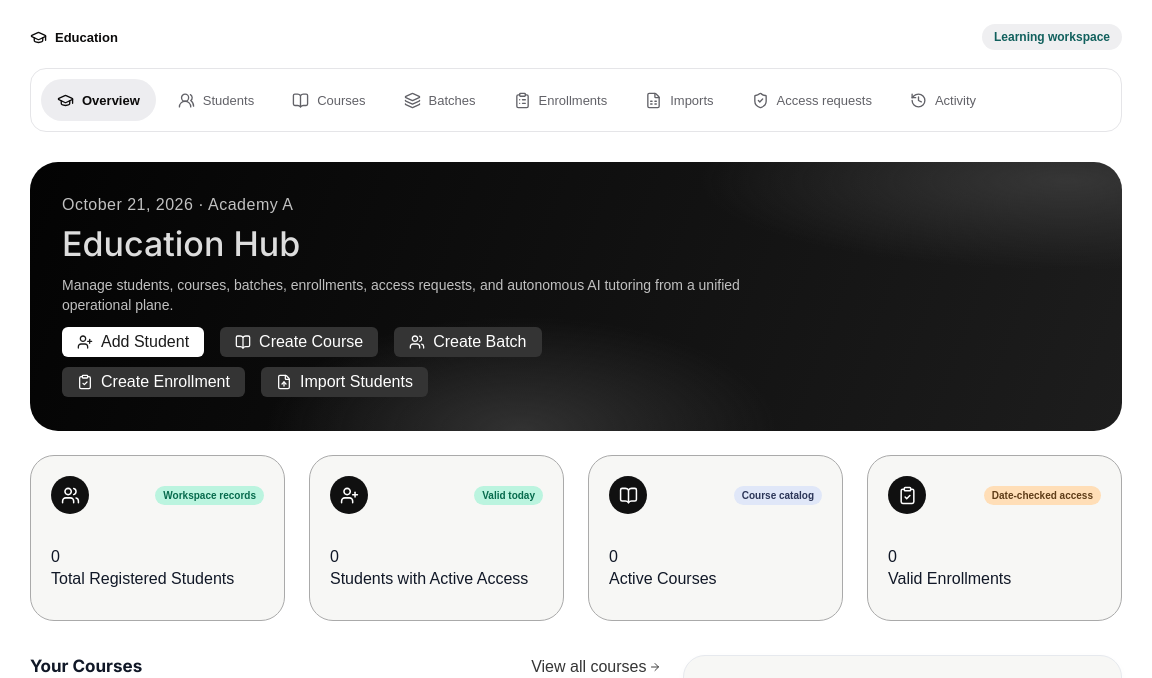
Test: Unified education workspace › navigates to the existing student page inside the education layout
Step 1. Click the link "Students" → [216, 100], box 178,92 -> 254,108
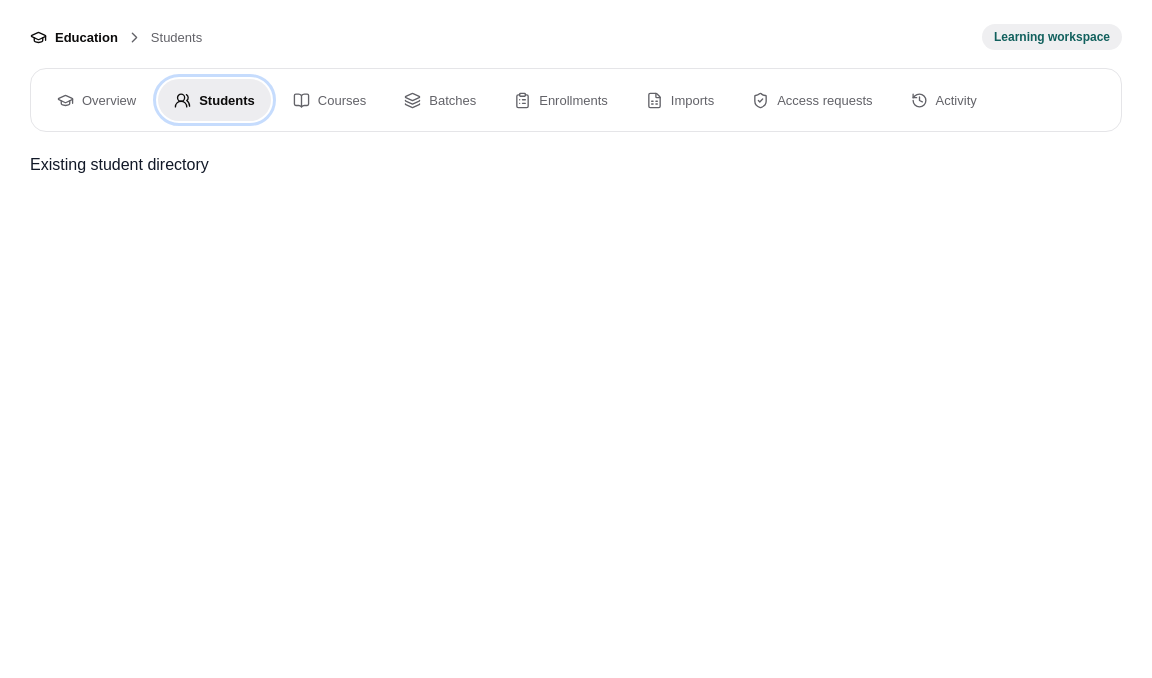
expect the navigation bar named "Education navigation" is shown: met, box 30,68 -> 1122,132
expect the text "Existing student directory" is shown: met, box 30,156 -> 209,173
